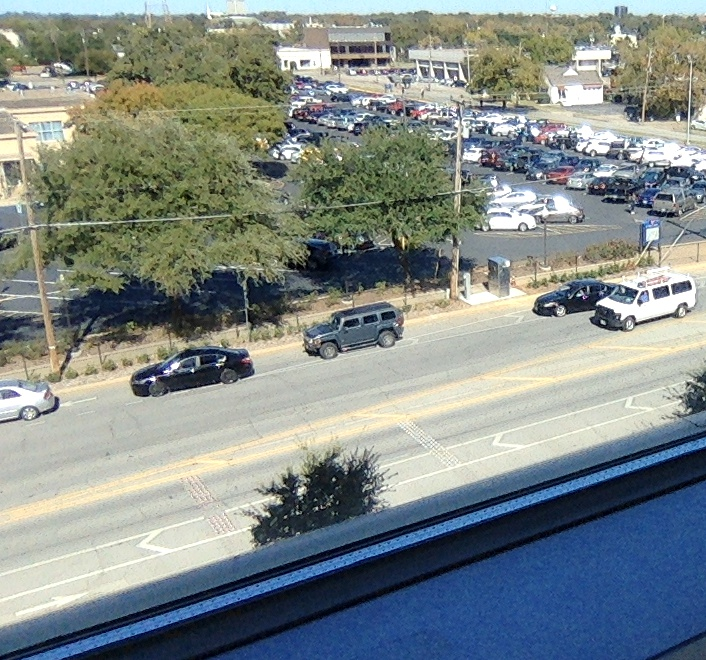car: (300, 300, 406, 360)
